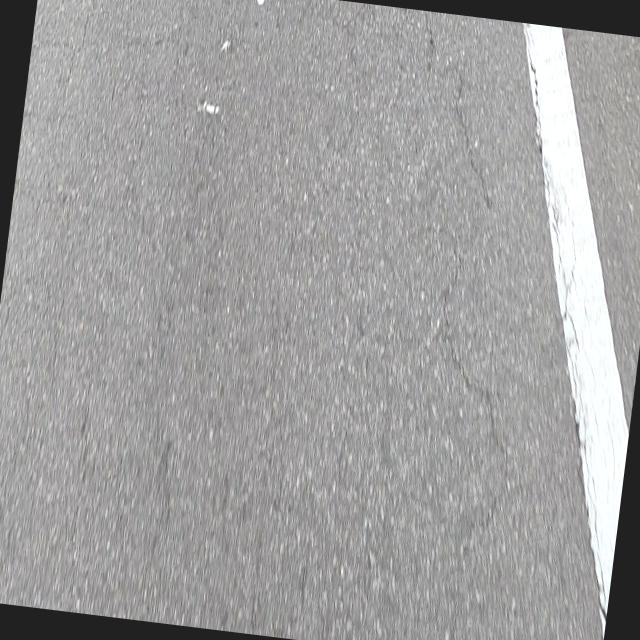Retak-Memanjang: (418, 11, 510, 540)
